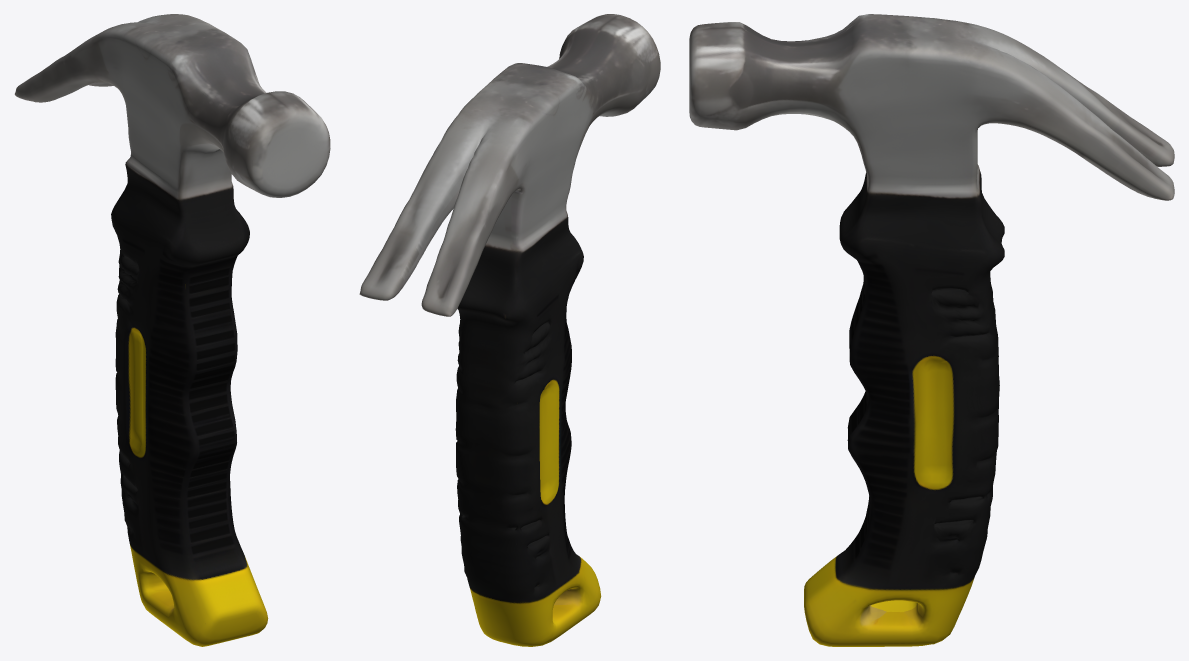
3 views of the same model, side by side, from view 1: azimuth 30°, elevation 25°; view 2: azimuth 150°, elevation 25°; view 3: azimuth 270°, elevation 25° (orthographic). The views are drawn at different scales.
Visible parts, largest first — view 1: model; view 2: model; view 3: model.
Part boxes in pixels (x1,y1,x2,y2): model: [14, 14, 330, 646]; model: [359, 14, 660, 646]; model: [689, 14, 1174, 646].
Size of the model in its own units: 0.3323 by 1.9 by 1.38.
1 material, 1 textured.
